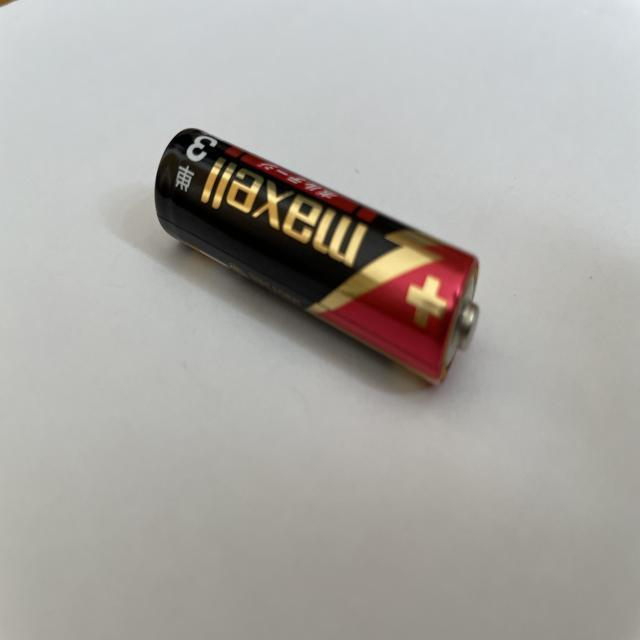Hazard: (155, 127, 481, 390)
